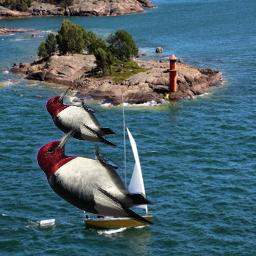Woodpecker: (30, 126, 162, 226), (42, 87, 122, 147)
